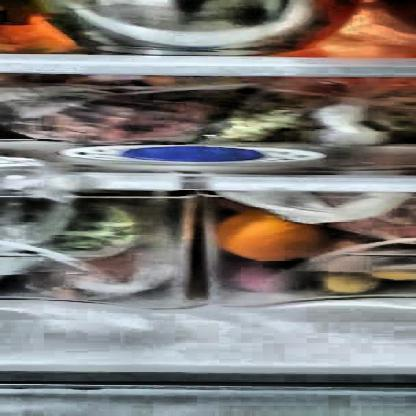lemon: (324, 271, 384, 295)
orange: (220, 210, 324, 260)
